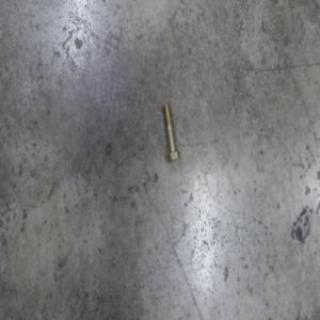Bolttrack_idkeyframe: (161, 102, 179, 164)
